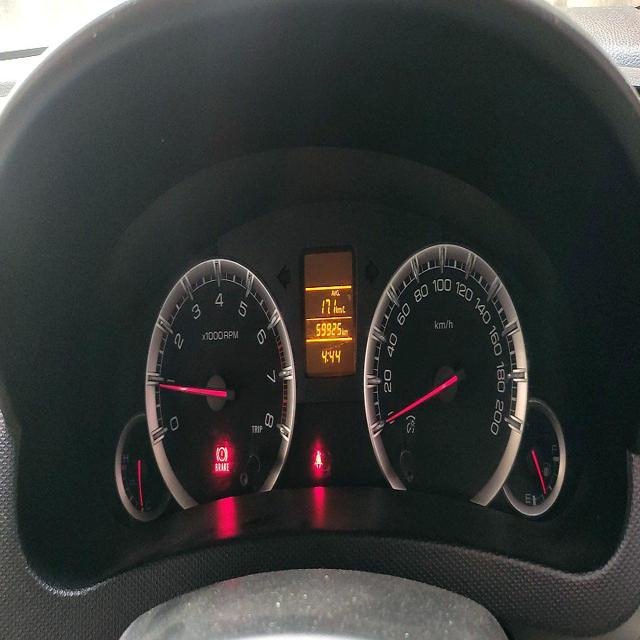odometer: (313, 317, 344, 340)
